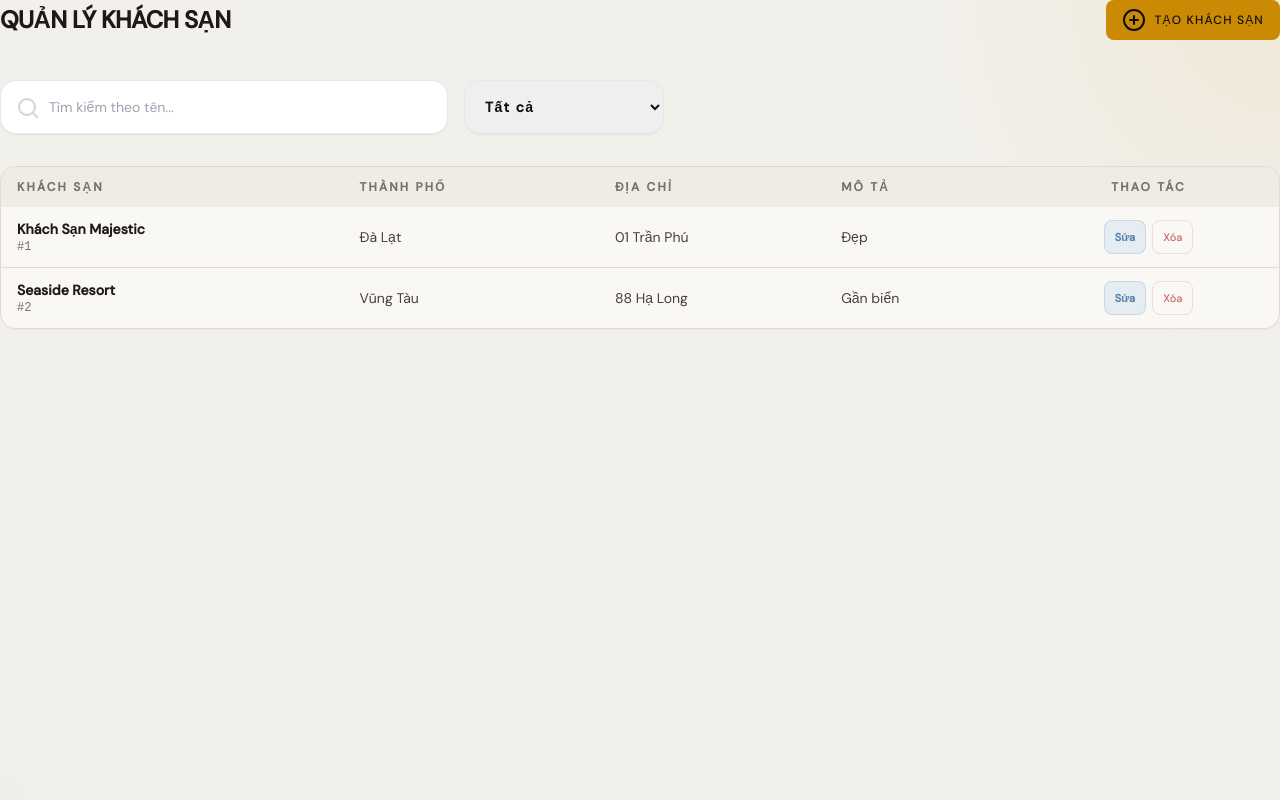
it: Kiểm thử Component HotelManagement › TC04: Kiểm tra mở tạo mới
Expected: the text "Khách Sạn Majestic" is shown, [17,220,145,238]
Click the button "Tạo khách sạn" at (1193, 20), box [1106,0,1279,40]
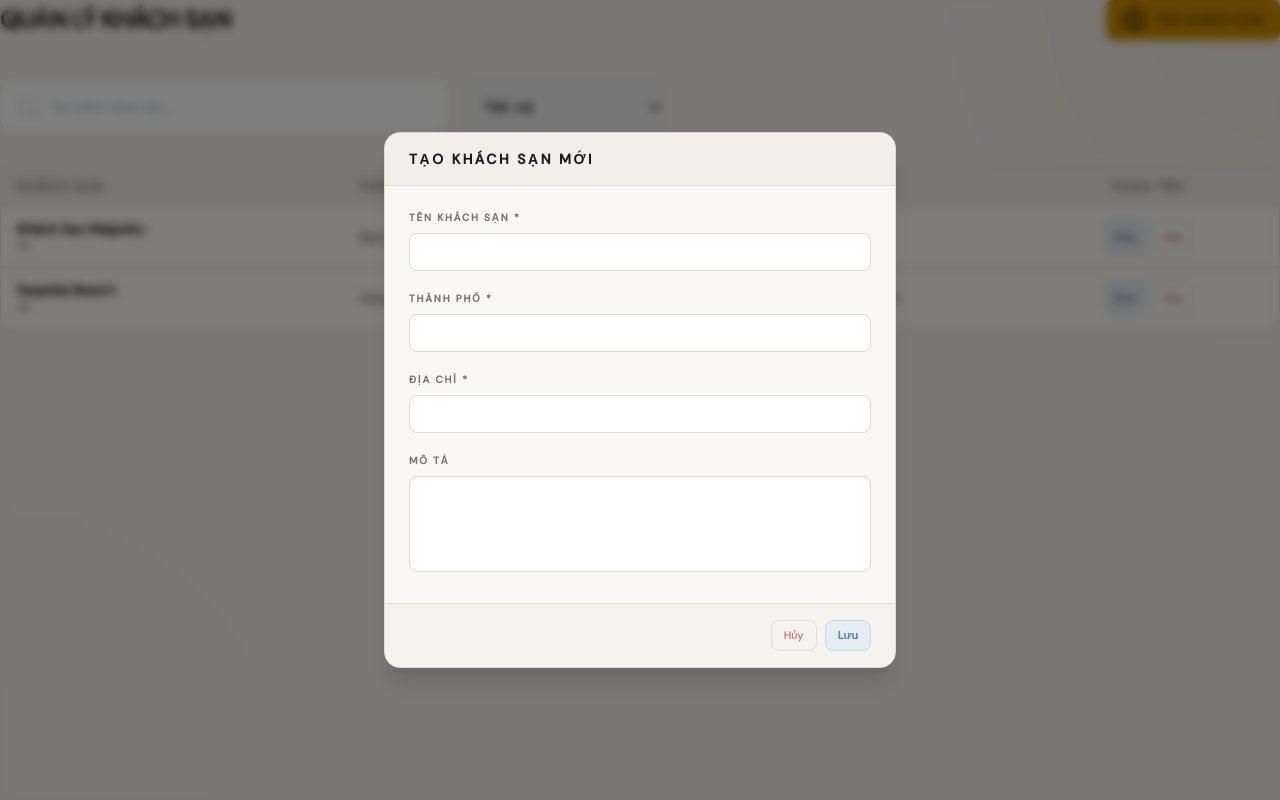
Now the heading "Tạo khách sạn mới" is shown, box [409,150,594,168]
